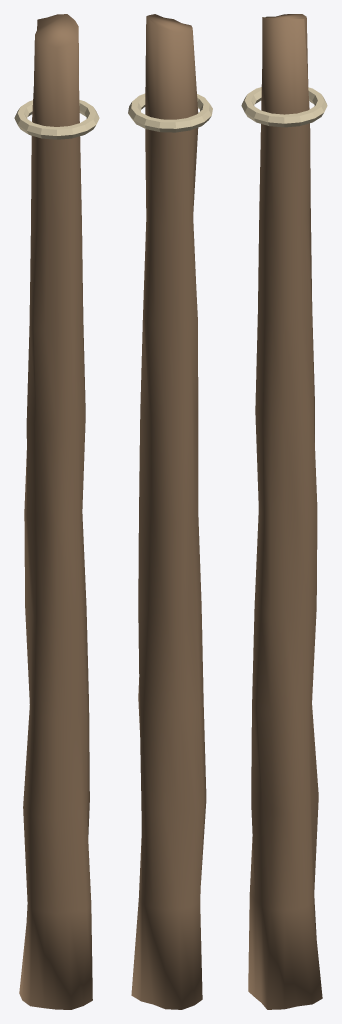
The model's file is Tonbo_Stake.fbx.
3 renders of one model, left to right at view 1: azimuth 90°, elevation 25°; view 2: azimuth 210°, elevation 25°; view 3: azimuth 270°, elevation 25°, orthographic.
Parts seen in each view (by area): view 1: Tonbo_Stake, Tonbo_Stake_Rope; view 2: Tonbo_Stake, Tonbo_Stake_Rope; view 3: Tonbo_Stake, Tonbo_Stake_Rope.
Part boxes in pixels (left/top/right/bottom): Tonbo_Stake: left=19, top=14, right=92, bottom=1009; Tonbo_Stake_Rope: left=14, top=100, right=99, bottom=139; Tonbo_Stake: left=131, top=14, right=206, bottom=1009; Tonbo_Stake_Rope: left=128, top=93, right=212, bottom=132; Tonbo_Stake: left=248, top=14, right=322, bottom=1009; Tonbo_Stake_Rope: left=241, top=87, right=327, bottom=127.
Size of the model in its own units: 0.08 by 1.01 by 0.08.
